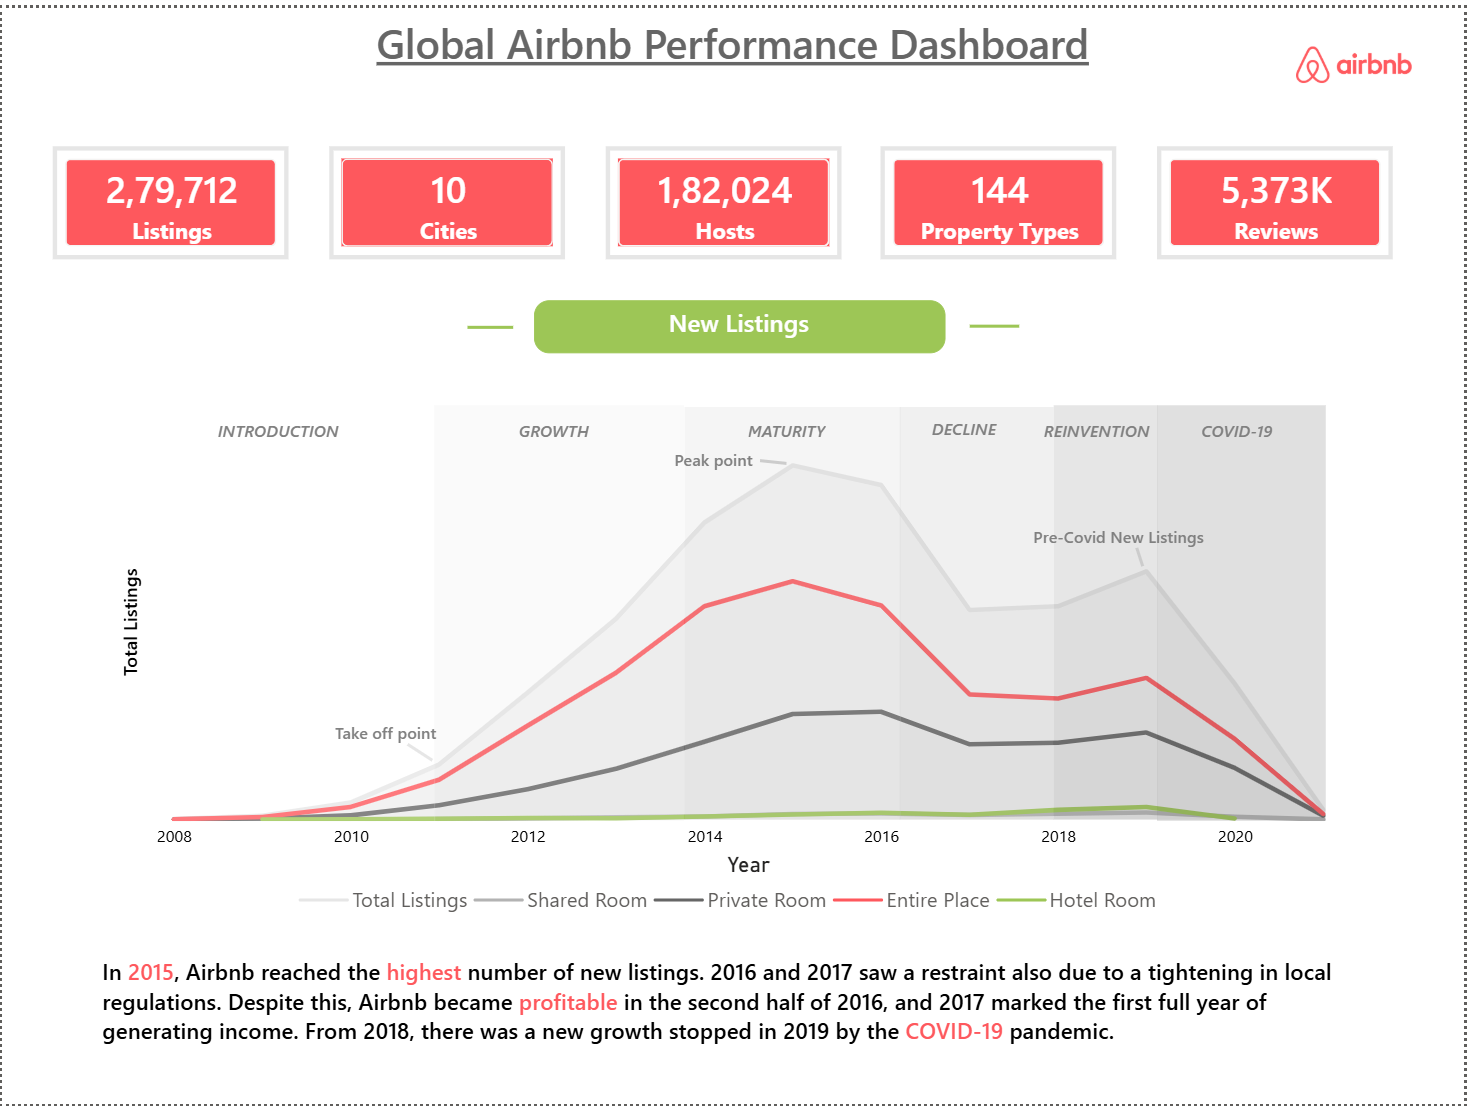

What the dashboard file says about the page in this screenshot:
{"tool":"powerbi","page":{"name":"Overview","canvas":[960,720],"ordinal":0},"visuals":[{"type":"textbox","box":[215,0,530,49],"z":0},{"type":"image","box":[836.2,25,102.5,23.8],"z":1000},{"type":"cardVisual","fields":{"Data":["CountNonNull(Listings.listing_id)"]},"box":[33,91,155,74],"z":2000},{"type":"cardVisual","fields":{"Data":["Count(Listings.city)"]},"box":[214.5,91,155,74],"z":3000},{"type":"cardVisual","fields":{"Data":["Count(Listings.host_id)"]},"box":[396,91,155,74],"z":4000},{"type":"cardVisual","fields":{"Data":["Count(Listings.property_type)"]},"box":[577.5,91,155,74],"z":5000},{"type":"cardVisual","fields":{"Data":["Count(Reviews.review_id)"]},"box":[759,91,155,74],"z":6000},{"type":"lineChart","fields":{"Category":["Listings.host_since.Variation.Date Hierarchy.Year"],"Y":["CountNonNull(Listings.listing_id)","Listings.Shared Room","Listings.Private Room","Listings.Entire Place","Listings.Hotel Room"]},"box":[75,260,810,345],"z":7000},{"type":"textbox","box":[349.8,191.9,270,35.1],"z":8000},{"type":"shape","box":[305.5,188.8,30,42.5],"z":9000},{"type":"shape","box":[635.5,176.2,32.5,66.2],"z":10000},{"type":"shape","box":[111,261,173,273],"z":11000},{"type":"textbox","box":[137,262,101,28],"z":12000},{"type":"shape","box":[284,261,164,273],"z":13000},{"type":"textbox","box":[335,262,61,28],"z":14000},{"type":"shape","box":[448,262,142,271],"z":15000},{"type":"textbox","box":[485,262,61,28],"z":16000},{"type":"shape","box":[590,262,101,271],"z":17000},{"type":"textbox","box":[606,261,63,28],"z":18000},{"type":"shape","box":[691,261,68,272],"z":19000},{"type":"textbox","box":[679,262,80,28],"z":20000},{"type":"shape","box":[759,261,111,273],"z":21000},{"type":"textbox","box":[783,262,63,28],"z":22000},{"type":"shape","box":[266,476,18,26],"z":23000},{"type":"shape","box":[497.4,285.3,17.9,26.3],"z":24000},{"type":"shape","box":[736,347,18,26],"z":25000},{"type":"shape","box":[740,353.6,14.1,13.2],"z":26000},{"type":"textbox","box":[214.3,461.4,91.4,30],"z":27001},{"type":"textbox","box":[672.5,331.7,126.7,30],"z":27002},{"type":"textbox","box":[436.7,281.7,73.3,30],"z":27003},{"type":"textbox","box":[60.6,617.8,838.9,81.1],"z":27004}]}

Visuals, with their boxes in screenshot pixels (x1, y1, x2, y2), scaled from the page's 960x720 canvas onto the 1467x1106 screenshot:
textbox: x1=329, y1=0, x2=1138, y2=75
image: x1=1278, y1=38, x2=1434, y2=75
cardVisual - CountNonNull(Listings.listing_id): x1=50, y1=140, x2=287, y2=253
cardVisual - Count(Listings.city): x1=328, y1=140, x2=565, y2=253
cardVisual - Count(Listings.host_id): x1=605, y1=140, x2=842, y2=253
cardVisual - Count(Listings.property_type): x1=882, y1=140, x2=1119, y2=253
cardVisual - Count(Reviews.review_id): x1=1160, y1=140, x2=1397, y2=253
lineChart - Listings.host_since.Variation.Date Hierarchy.Year x CountNonNull(Listings.listing_id): x1=115, y1=399, x2=1352, y2=929
textbox: x1=535, y1=295, x2=947, y2=349
shape: x1=467, y1=290, x2=513, y2=355
shape: x1=971, y1=271, x2=1021, y2=372
shape: x1=170, y1=401, x2=434, y2=820
textbox: x1=209, y1=402, x2=364, y2=445
shape: x1=434, y1=401, x2=685, y2=820
textbox: x1=512, y1=402, x2=605, y2=445
shape: x1=685, y1=402, x2=902, y2=819
textbox: x1=741, y1=402, x2=834, y2=445
shape: x1=902, y1=402, x2=1056, y2=819
textbox: x1=926, y1=401, x2=1022, y2=444
shape: x1=1056, y1=401, x2=1160, y2=819
textbox: x1=1038, y1=402, x2=1160, y2=445
shape: x1=1160, y1=401, x2=1329, y2=820
textbox: x1=1197, y1=402, x2=1293, y2=445
shape: x1=406, y1=731, x2=434, y2=771
shape: x1=760, y1=438, x2=787, y2=479
shape: x1=1125, y1=533, x2=1152, y2=573
shape: x1=1131, y1=543, x2=1152, y2=563
textbox: x1=327, y1=709, x2=467, y2=755
textbox: x1=1028, y1=510, x2=1221, y2=556
textbox: x1=667, y1=433, x2=779, y2=479
textbox: x1=93, y1=949, x2=1375, y2=1074
